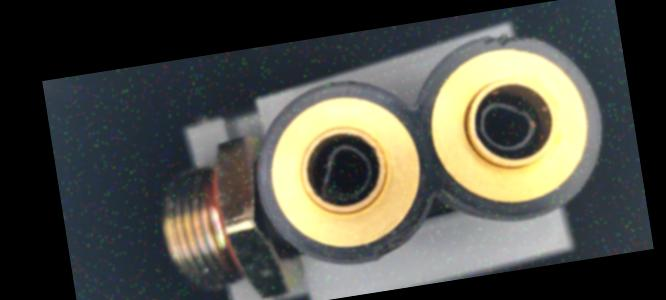bump: (363, 228, 420, 271), (474, 28, 541, 57)
off-centered: (465, 83, 553, 167), (305, 137, 379, 208)
